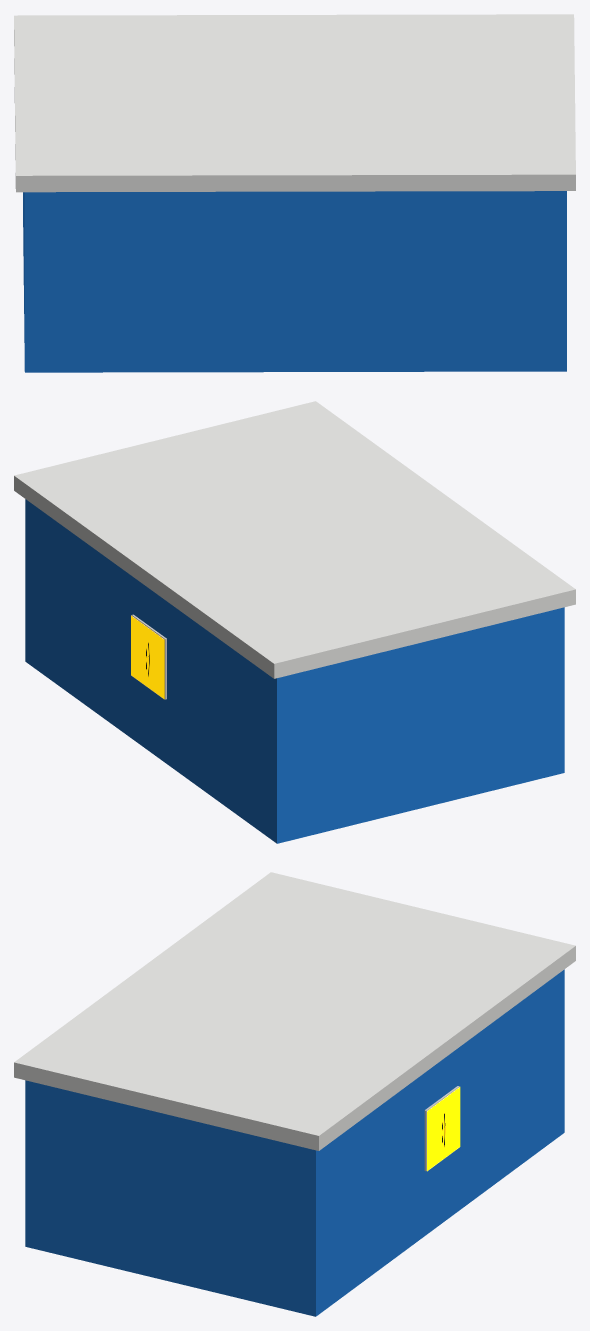
File: r39_smiley.glb
The picture shows the model from 3 angles, top to bottom: view 1: azimuth 30°, elevation 25°; view 2: azimuth 150°, elevation 25°; view 3: azimuth 270°, elevation 25°; orthographic projection. The views are drawn at different scales.
Visible parts, largest first — view 1: r39_smiley_lod0; view 2: r39_smiley_lod0; view 3: r39_smiley_lod0.
Part boxes in pixels (x1,y1,x2,y2): r39_smiley_lod0: (14, 14, 575, 372); r39_smiley_lod0: (14, 401, 575, 843); r39_smiley_lod0: (14, 872, 575, 1316).
Size of what is drawn, in the model's own units: 14.93 by 4.95 by 13.44.
6 materials, 1 textured.
